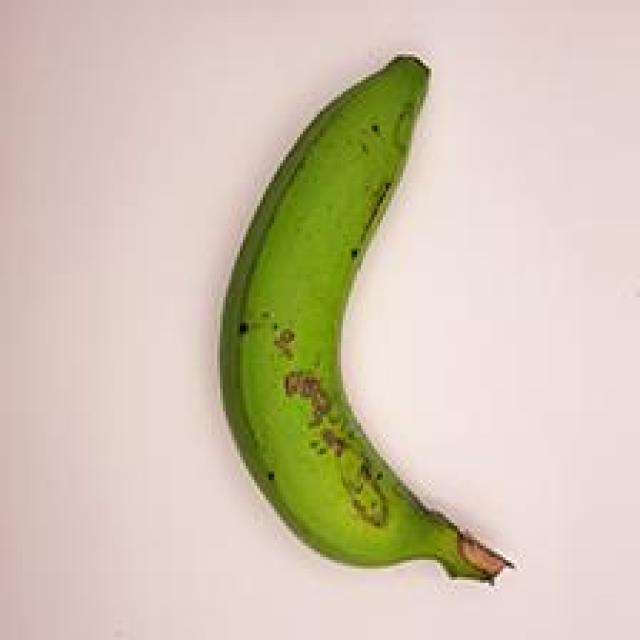Raw: (197, 26, 542, 618)
